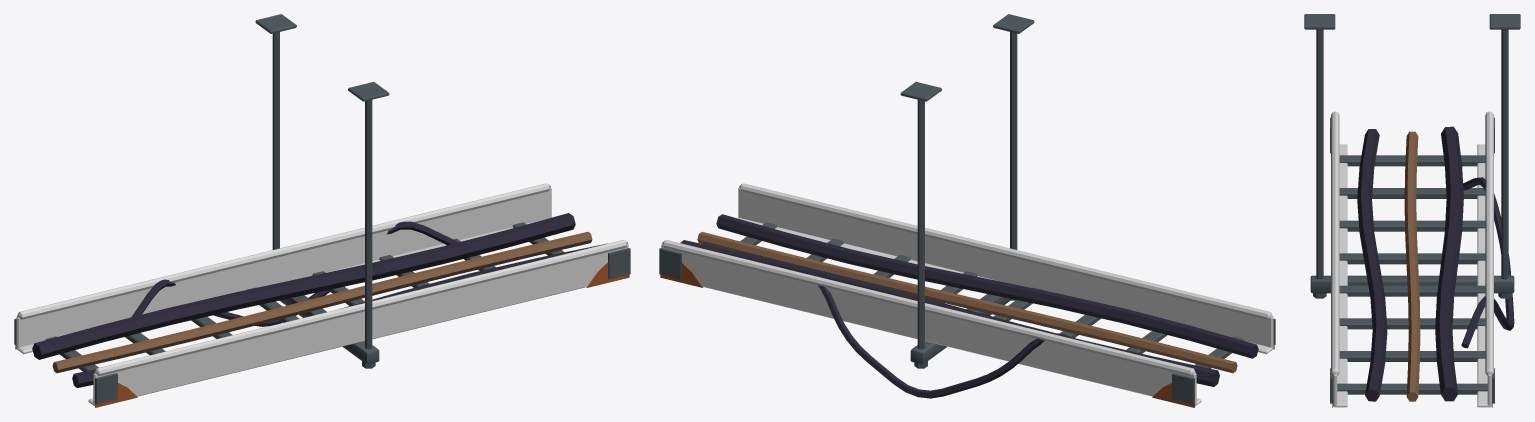
File: cable_tray_2m.glb
3 renders of one model, left to right at view 1: azimuth 30°, elevation 25°; view 2: azimuth 150°, elevation 25°; view 3: azimuth 270°, elevation 25°, orthographic.
Parts seen in each view (by area): view 1: Tray; view 2: Tray; view 3: Tray.
Part boxes in pixels (bbox=[...]): Tray: bbox=[14, 14, 630, 407]; Tray: bbox=[659, 14, 1275, 407]; Tray: bbox=[1304, 14, 1520, 407].
Bounding box in the file's own units: 2 × 1.09 × 0.7.
